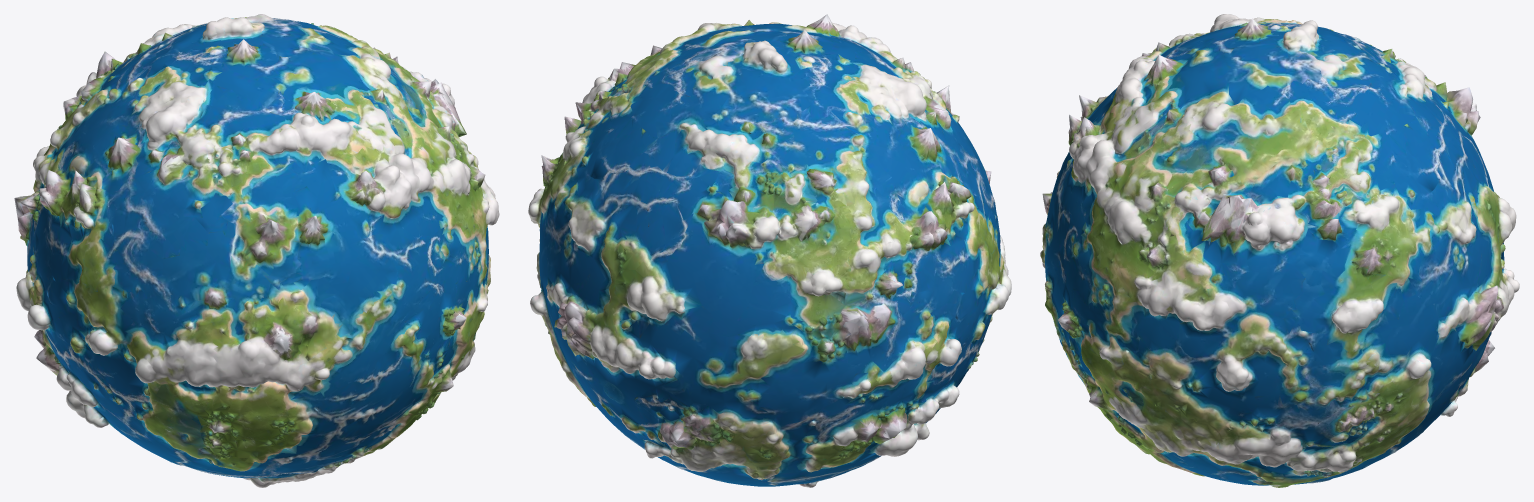
File: whimsical-world.glb
3 views of the same model, side by side, from view 1: azimuth 30°, elevation 25°; view 2: azimuth 150°, elevation 25°; view 3: azimuth 270°, elevation 25° (orthographic).
Parts seen in each view (by area): view 1: Orbit_Planet_Web; view 2: Orbit_Planet_Web; view 3: Orbit_Planet_Web.
Boxes of the visible parts, box(x1,y1,x2,y2) form: Orbit_Planet_Web: box(14, 14, 499, 487); Orbit_Planet_Web: box(528, 14, 1011, 487); Orbit_Planet_Web: box(1040, 14, 1519, 487).
Size of the model in its own units: 2 by 1.99 by 1.98.
1 material, 1 textured.
